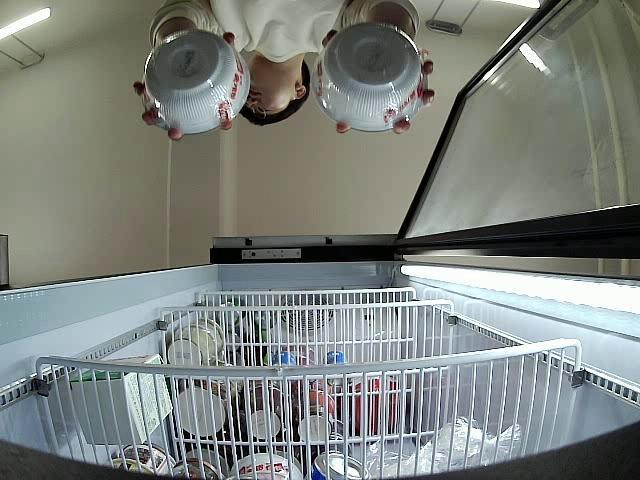09_yukGaeJang: (310, 22, 430, 132), (144, 32, 252, 134)
